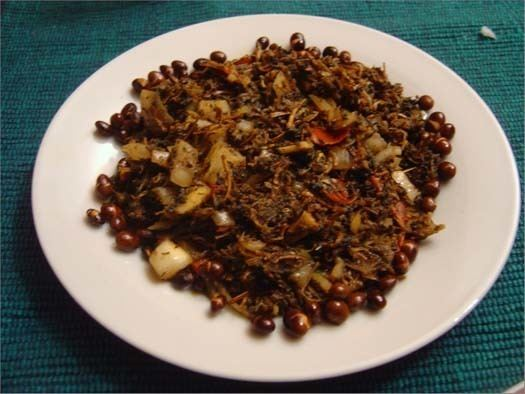gundruk: (105, 56, 455, 319)
